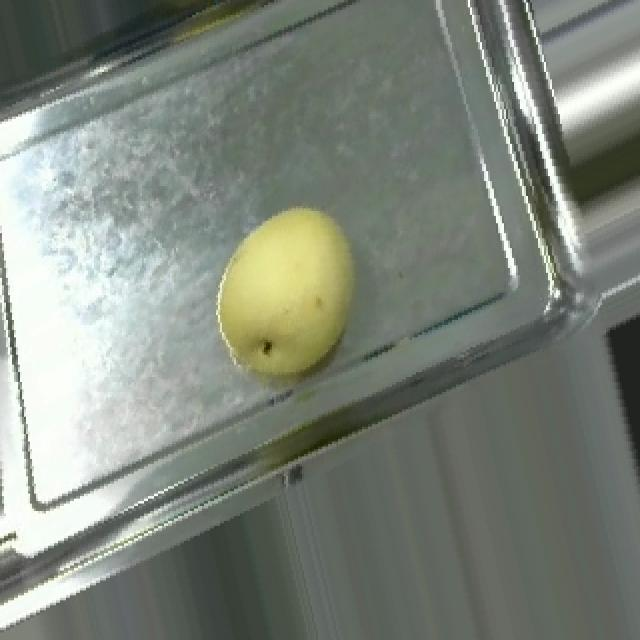Fruit: (194, 179, 384, 404)
